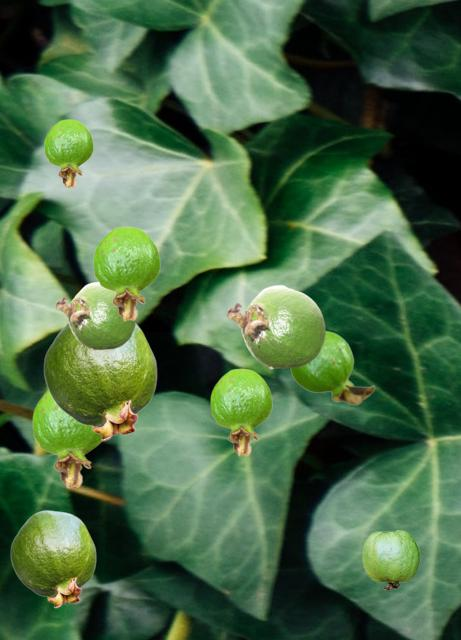guava: (43, 323, 156, 440), (226, 284, 325, 368), (10, 510, 95, 607), (32, 390, 103, 487), (290, 330, 374, 404), (93, 226, 159, 320), (55, 281, 135, 349), (210, 368, 271, 455), (362, 530, 419, 589), (44, 119, 92, 187)
